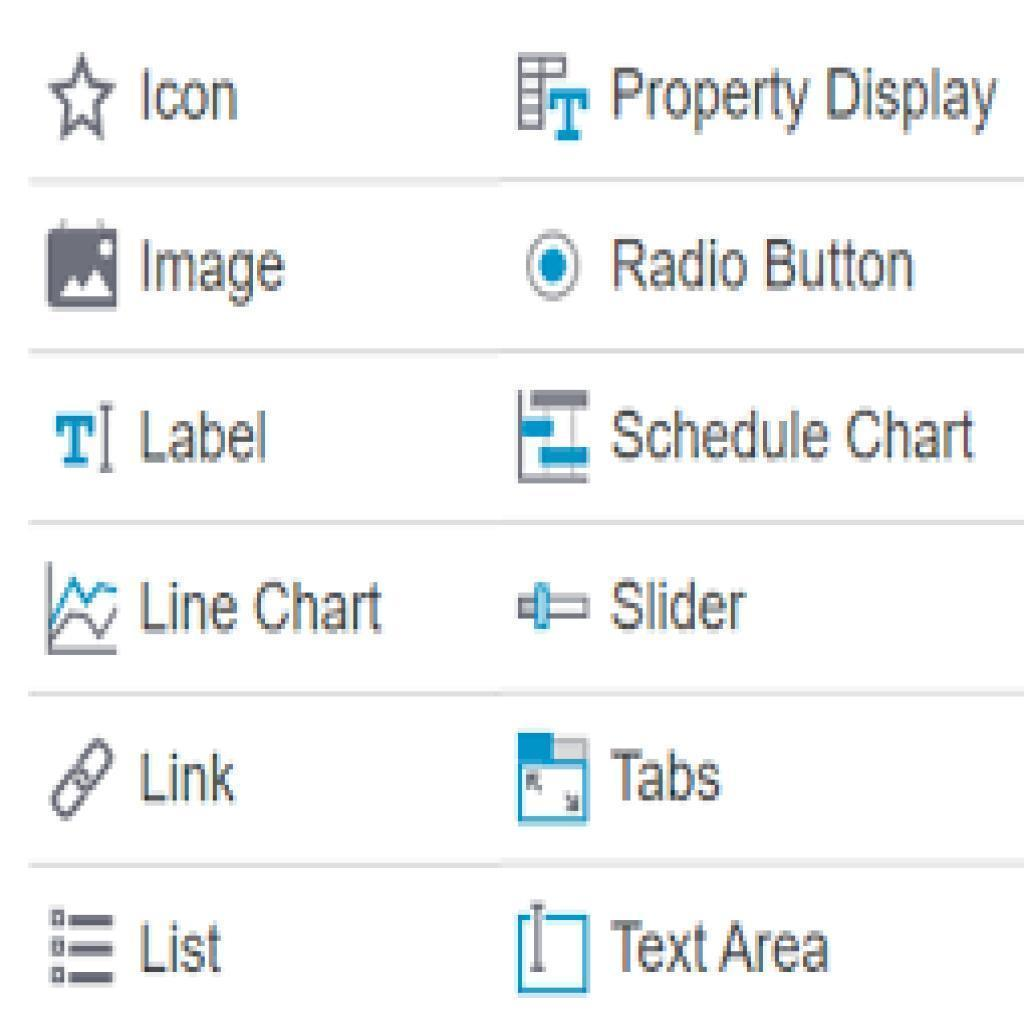icon: (38, 555, 124, 674), (508, 722, 596, 837), (34, 213, 124, 325), (508, 38, 594, 155), (512, 896, 596, 1005), (514, 381, 595, 490), (41, 47, 123, 150), (42, 898, 125, 995), (40, 392, 124, 481), (47, 729, 115, 836)
radio: (521, 227, 583, 306)
